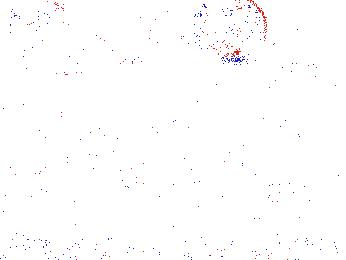moon jellyfish: (34, 8, 104, 76), (7, 2, 71, 71), (264, 60, 319, 140), (200, 1, 267, 61), (146, 5, 227, 46), (101, 9, 154, 68)
